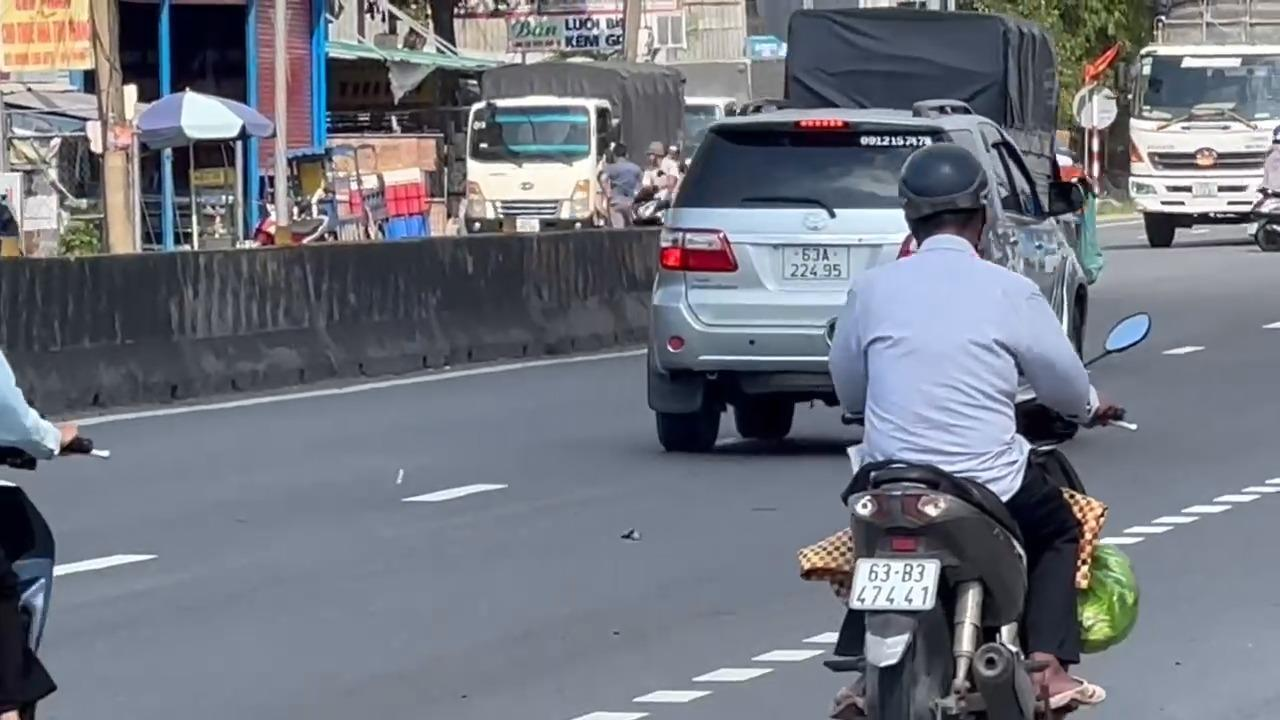bien_so: (847, 556, 940, 611), (780, 244, 850, 281)
